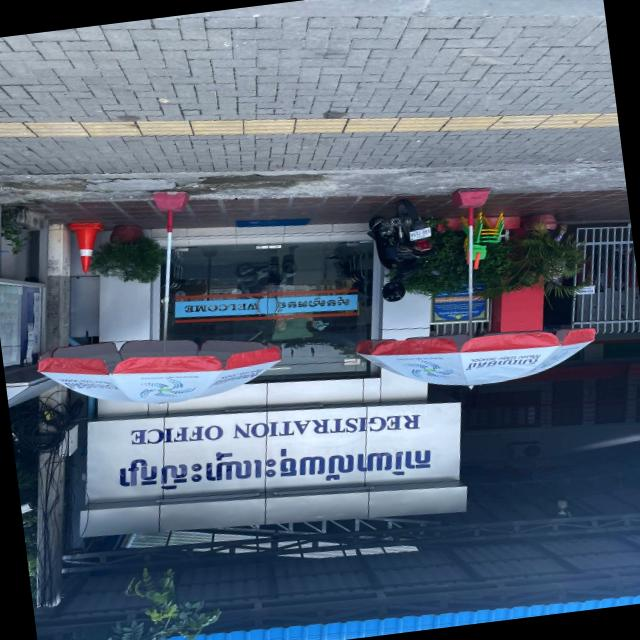Yolov11_80vkh: (112, 442, 439, 498), (274, 294, 353, 313), (463, 358, 540, 372)
